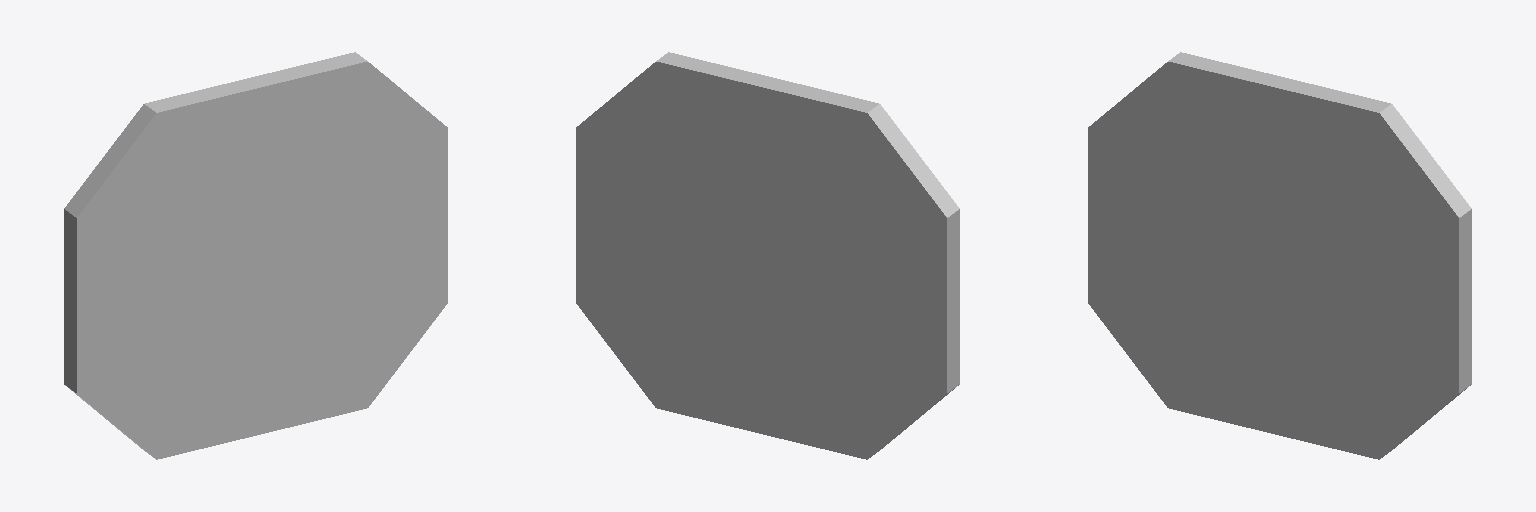
Rendered from cap.obj.
The picture shows the model from 3 angles: view 1: azimuth 30°, elevation 25°; view 2: azimuth 150°, elevation 25°; view 3: azimuth 330°, elevation 25°; orthographic projection.
Parts seen in each view (by area): view 1: coridoor_Cube.002; view 2: coridoor_Cube.002; view 3: coridoor_Cube.002.
Part boxes in pixels (x1,y1,x2,y2): coridoor_Cube.002: (64,52,447,459); coridoor_Cube.002: (576,52,959,459); coridoor_Cube.002: (1088,52,1471,459).
Bounding box in the file's own units: 2 × 1.79 × 0.1186.